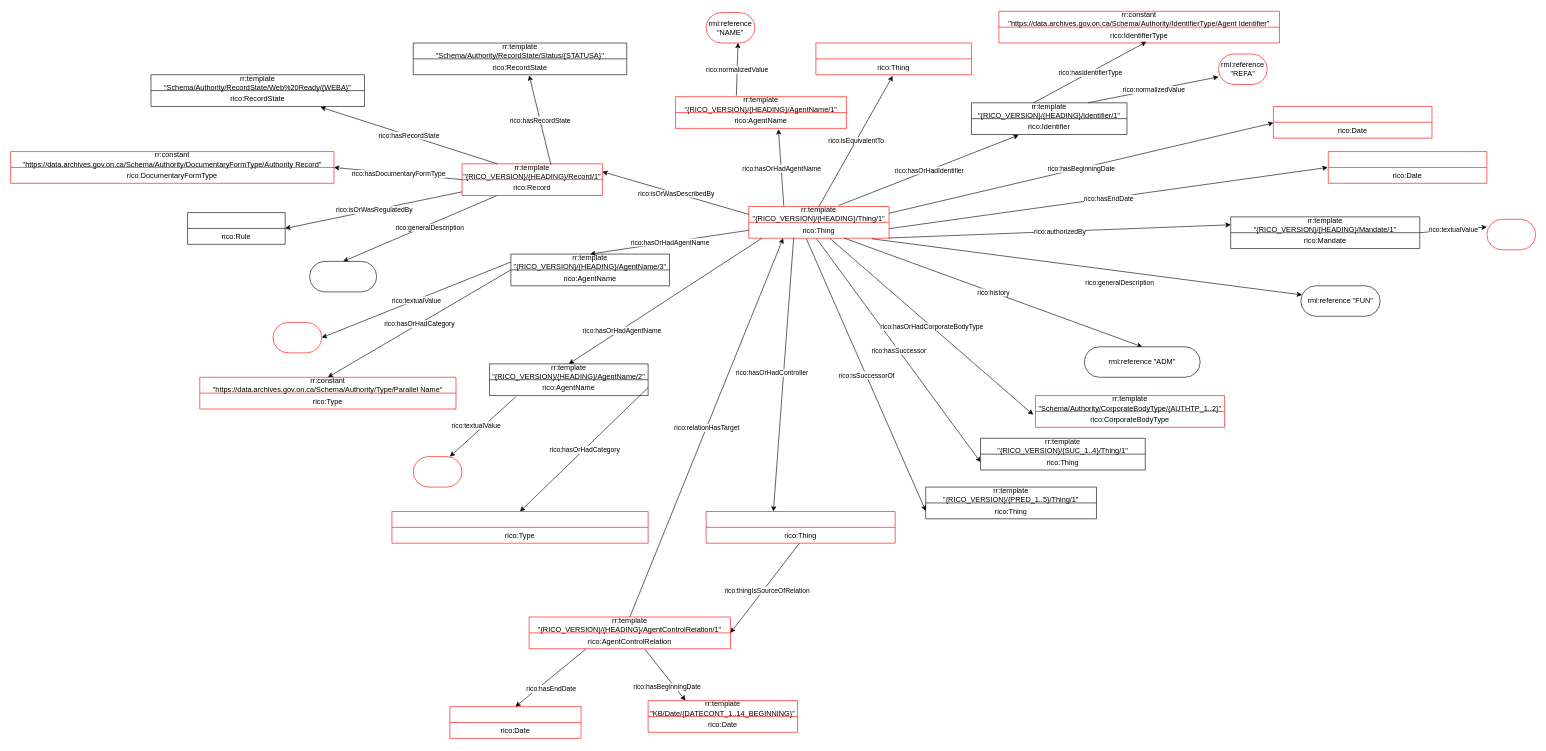
Some shapes in this 1546 by 751 pixel diagram are drawn without their labels. The shapes that lost their labels are listed below. From the top down, each one's box as (x1, y1, x2, y2) in pixels, then its label:
(815, 42, 971, 75): rr:template " {RICO_VERSION} /{REFA}/Thing/1"
(1273, 106, 1432, 138): rr:template "KB/Date /{ DATEEX_BEGINNING}"
(1328, 151, 1487, 183): rr:template "KB/Date /{ DATEEX_END}"
(187, 212, 285, 244): rr:template "KB/Rule /{ RULES}"
(1486, 219, 1536, 250): rml:reference "AA"
(309, 261, 377, 292): rml:reference " SOURCE "
(272, 322, 322, 353): rml:reference "PAR_1..4"
(413, 456, 462, 487): rml:reference "VAR_1..11"
(391, 511, 648, 543): rr:constant "https://data.archives.gov.on.ca/Schema/Authority/Type/Variant Name"
(705, 511, 895, 543): rr:template "{RICO_VERSION}/{CONTAG_1..14}/Thing/1"
(449, 706, 581, 738): rr:template "KB/Date/{DATECONT_1..14_END}"
